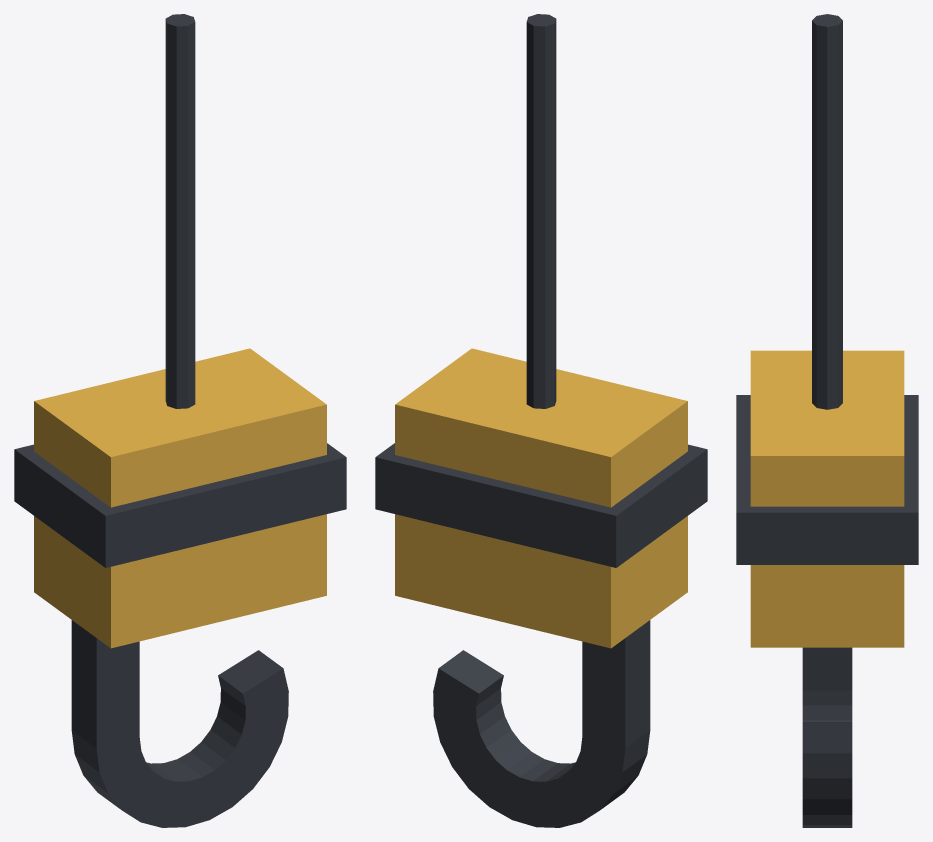
The model's file is hook.glb.
3 renders of one model, left to right at view 1: azimuth 30°, elevation 25°; view 2: azimuth 150°, elevation 25°; view 3: azimuth 270°, elevation 25°, orthographic.
Parts seen in each view (by area): view 1: bloque, gancho, cable; view 2: bloque, gancho, cable; view 3: bloque, cable, gancho.
Part boxes in pixels (x1,y1,x2,y2): bloque: [14, 348, 346, 648]; gancho: [71, 620, 288, 827]; cable: [165, 14, 195, 408]; bloque: [375, 348, 707, 648]; gancho: [433, 620, 650, 827]; cable: [526, 14, 556, 408]; bloque: [736, 350, 918, 647]; cable: [812, 14, 842, 409]; gancho: [802, 647, 852, 827].
Bounding box in the file's own units: 0.261 × 0.8241 × 0.171.
